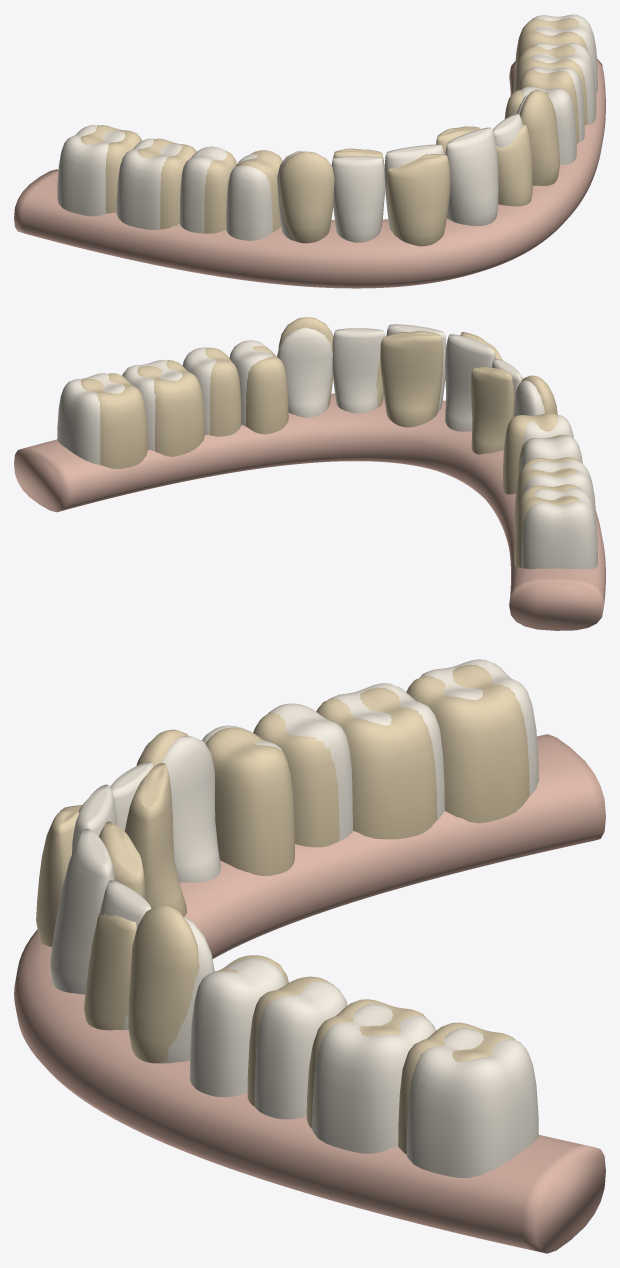
File: arch.glb
3 renders of one model, top to bottom at view 1: azimuth 30°, elevation 25°; view 2: azimuth 150°, elevation 25°; view 3: azimuth 270°, elevation 25°, orthographic. The views are drawn at different scales.
Visible parts, largest first — view 1: archBefore, archAfter; view 2: archBefore, archAfter; view 3: archBefore, archAfter.
Boxes of the visible parts, <box> form: archBefore: <box>14,18,605,288</box>; archAfter: <box>57,14,597,242</box>; archBefore: <box>14,317,605,630</box>; archAfter: <box>57,324,597,569</box>; archBefore: <box>14,664,605,1253</box>; archAfter: <box>50,659,538,1177</box>.
Bounding box in the file's own units: 3.1 × 0.6687 × 1.65.
